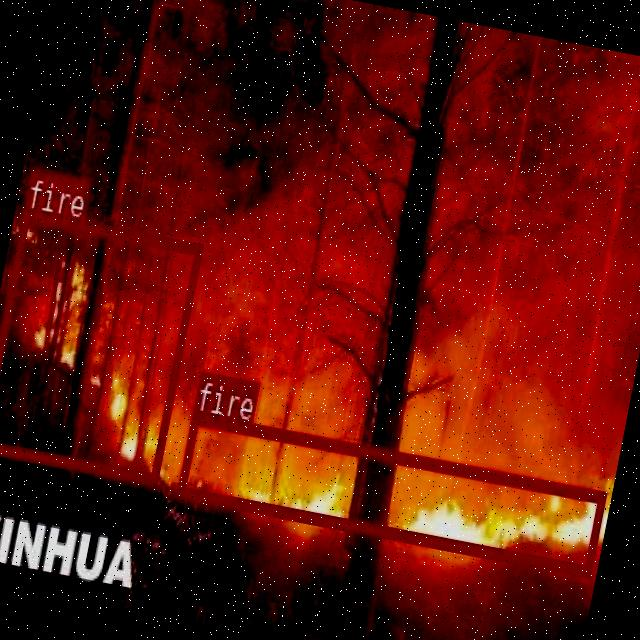fire: (175, 410, 605, 576), (0, 208, 201, 483)
